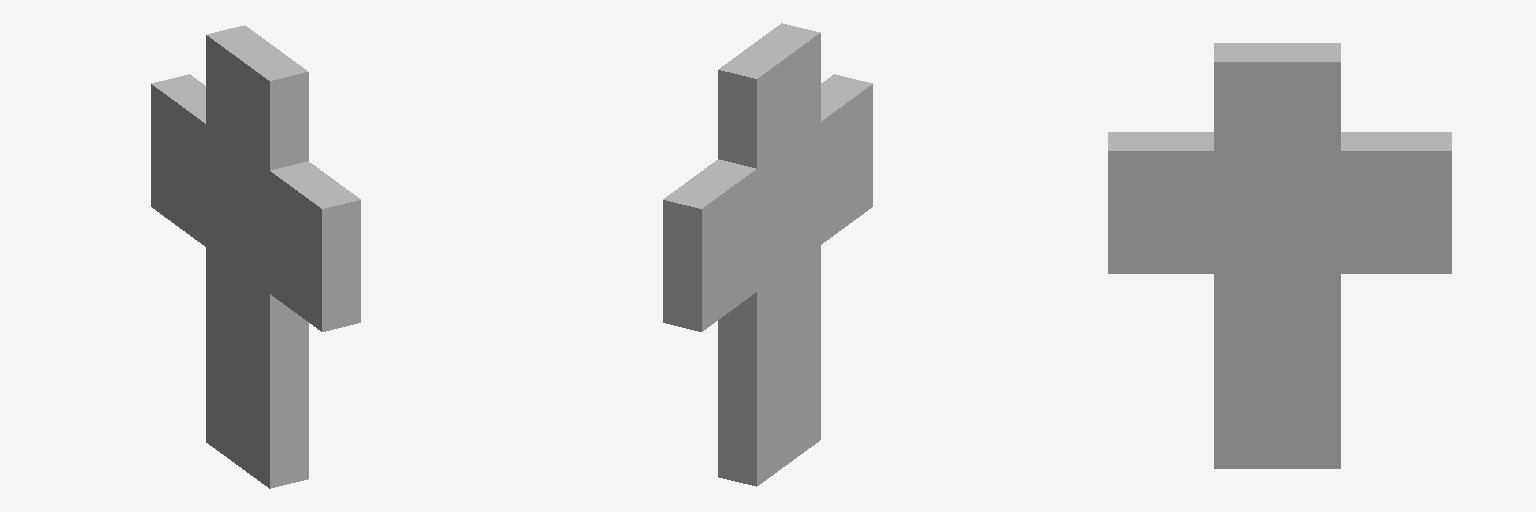
File: tombStone.obj
The picture shows the model from 3 angles: view 1: azimuth 30°, elevation 25°; view 2: azimuth 150°, elevation 25°; view 3: azimuth 270°, elevation 25°; orthographic projection.
Visible parts, largest first — view 1: Cube; view 2: Cube; view 3: Cube.
Part boxes in pixels (x1,y1,x2,y2): Cube: (151,25,360,488); Cube: (663,23,872,486); Cube: (1108,43,1451,468).
Bounding box in the file's own units: 0.2 × 2 × 1.53.